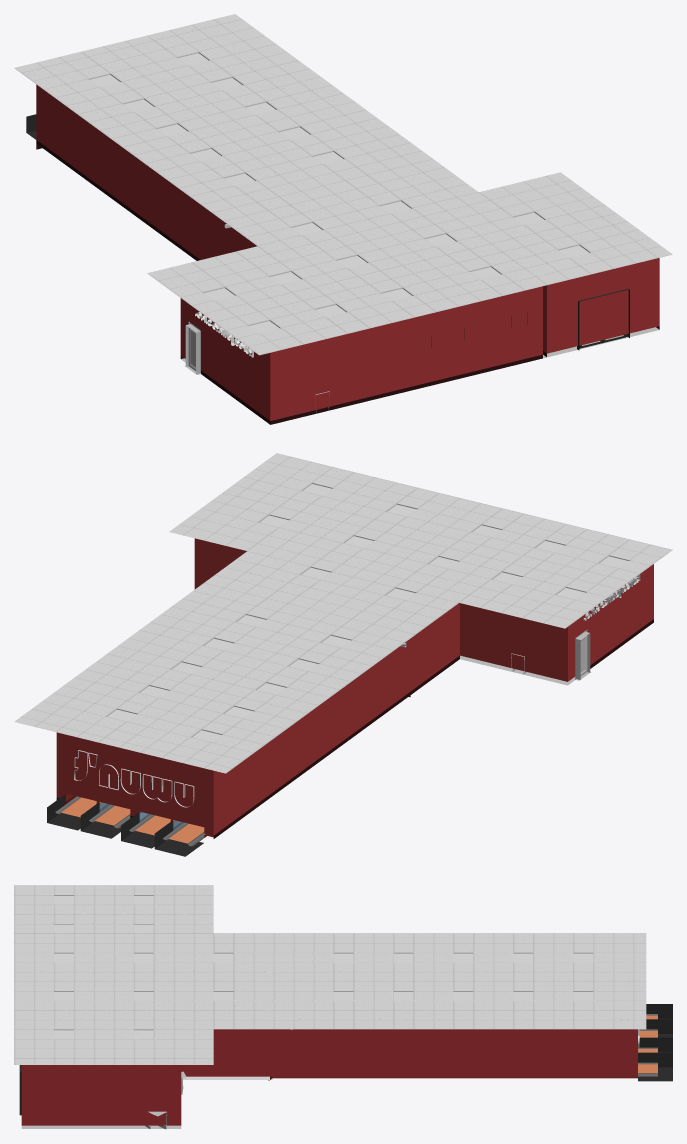
File: bowling alley LP2.fbx
3 renders of one model, top to bottom at view 1: azimuth 30°, elevation 25°; view 2: azimuth 150°, elevation 25°; view 3: azimuth 270°, elevation 25°, orthographic. The views are drawn at different scales.
Parts seen in each view (by area): view 1: ceiling, wall back, wall alley left, wall entrance, wall jatirko, jatirko back door; view 2: ceiling, wall alley left, wall bowling, wall jatirko, wall entrance, neon holder big, jatirko back door, bowling lane.003, bowling lane.001; view 3: ceiling, wall alley right, wall entrance, wall bowling, right side, floor.
Boxes of the visible parts, <box> form: ceiling: <box>14,14,672,355</box>; wall back: <box>270,286,542,424</box>; wall alley left: <box>36,84,256,260</box>; wall entrance: <box>547,258,659,353</box>; wall jatirko: <box>180,298,270,424</box>; jatirko back door: <box>185,321,200,374</box>; ceiling: <box>14,453,672,773</box>; wall alley left: <box>213,603,459,838</box>; wall bowling: <box>47,732,213,856</box>; wall jatirko: <box>460,564,653,681</box>; wall entrance: <box>194,538,246,589</box>; neon holder big: <box>74,750,194,807</box>; jatirko back door: <box>575,629,590,679</box>; bowling lane.003: <box>163,822,205,846</box>; bowling lane.001: <box>89,804,130,828</box>; ceiling: <box>14,885,646,1064</box>; wall alley right: <box>181,1029,637,1076</box>; wall entrance: <box>21,1065,181,1125</box>; wall bowling: <box>638,1004,672,1081</box>; right side: <box>268,1076,637,1080</box>; floor: <box>21,1125,181,1128</box>.
Bounding box in the file's own units: 2136 × 405 × 3299.
